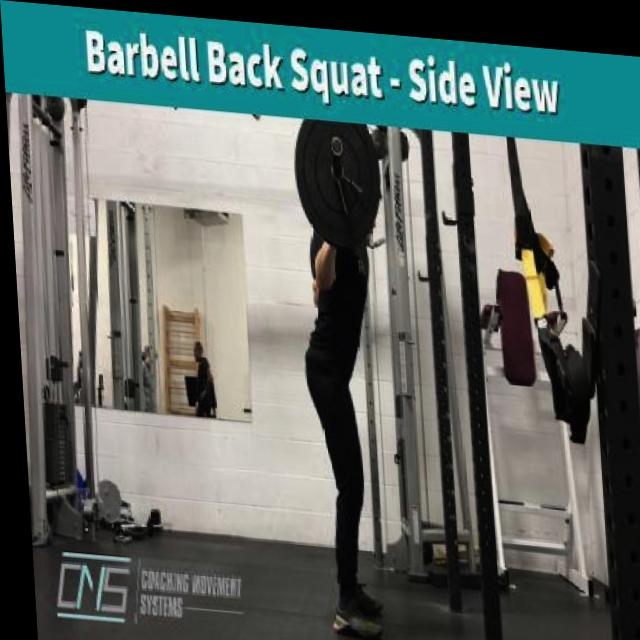barbell: (286, 116, 390, 254)
